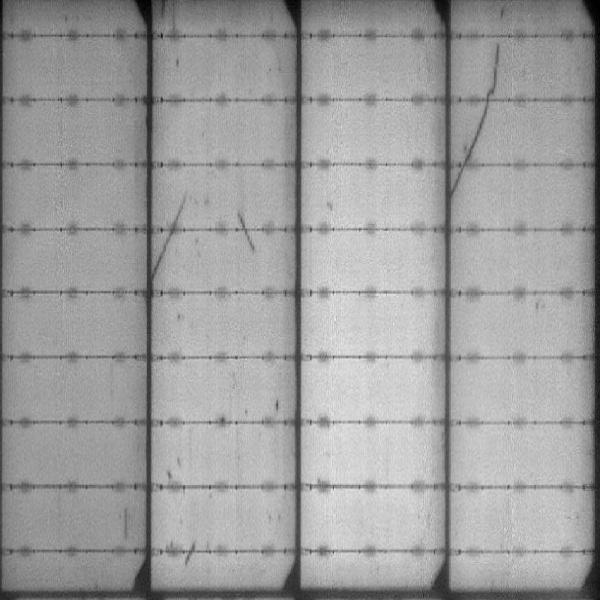scratch: (452, 100, 492, 194), (155, 192, 187, 280), (480, 37, 505, 98), (237, 209, 255, 255), (117, 506, 134, 537), (183, 541, 197, 573), (158, 1, 170, 18)
